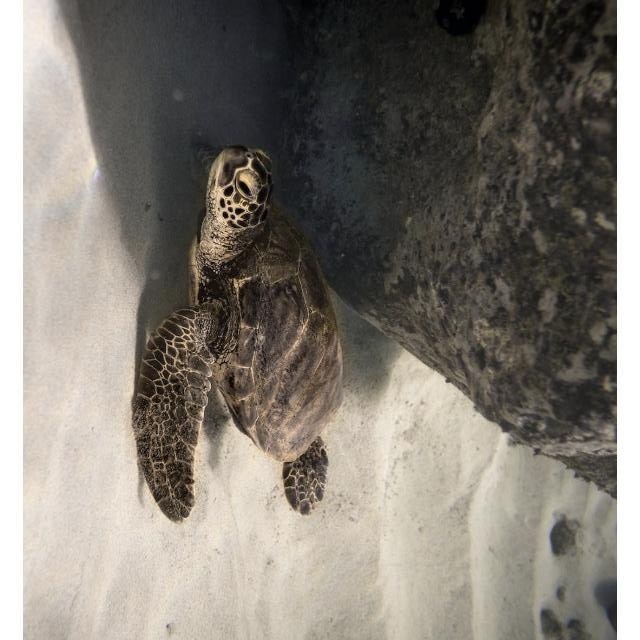turtle: (130, 142, 346, 522)
